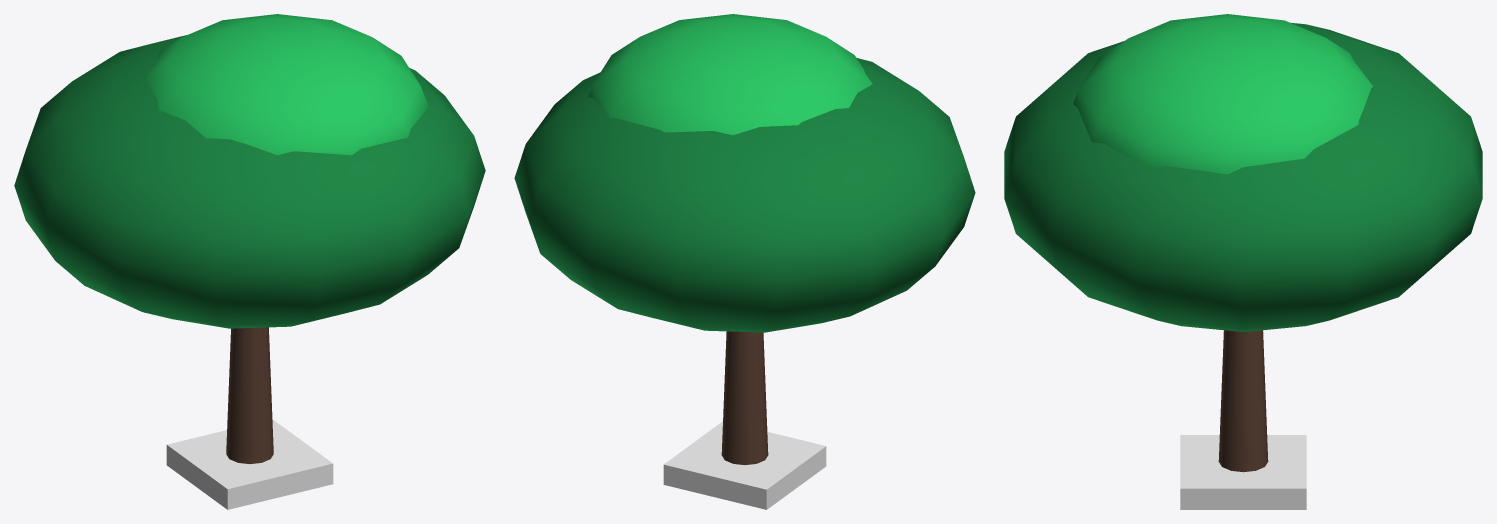
File: pohon_peneduh.glb
3 renders of one model, left to right at view 1: azimuth 30°, elevation 25°; view 2: azimuth 150°, elevation 25°; view 3: azimuth 270°, elevation 25°, orthographic. The views are drawn at different scales.
Parts seen in each view (by area): view 1: pohon_peneduh; view 2: pohon_peneduh; view 3: pohon_peneduh.
Part boxes in pixels (x1,y1,x2,y2): pohon_peneduh: (14, 14, 485, 509); pohon_peneduh: (514, 14, 975, 509); pohon_peneduh: (1004, 14, 1482, 509).
Bounding box in the file's own units: 6.21 × 6.36 × 6.05.
